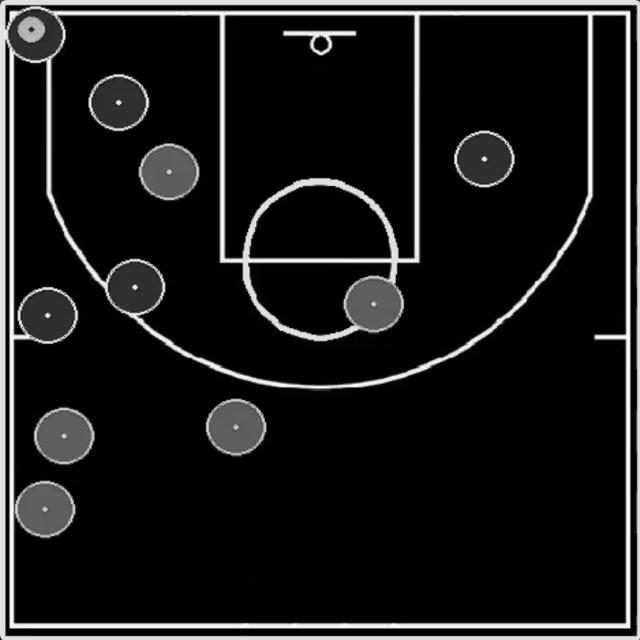Basketball: (17, 16, 47, 44)
Team_A: (452, 130, 516, 188), (89, 74, 149, 131), (18, 287, 78, 344), (105, 259, 165, 316), (7, 6, 65, 63)
Team_B: (34, 407, 94, 465), (15, 481, 76, 538), (138, 144, 200, 200), (343, 276, 403, 333), (206, 399, 266, 456)
